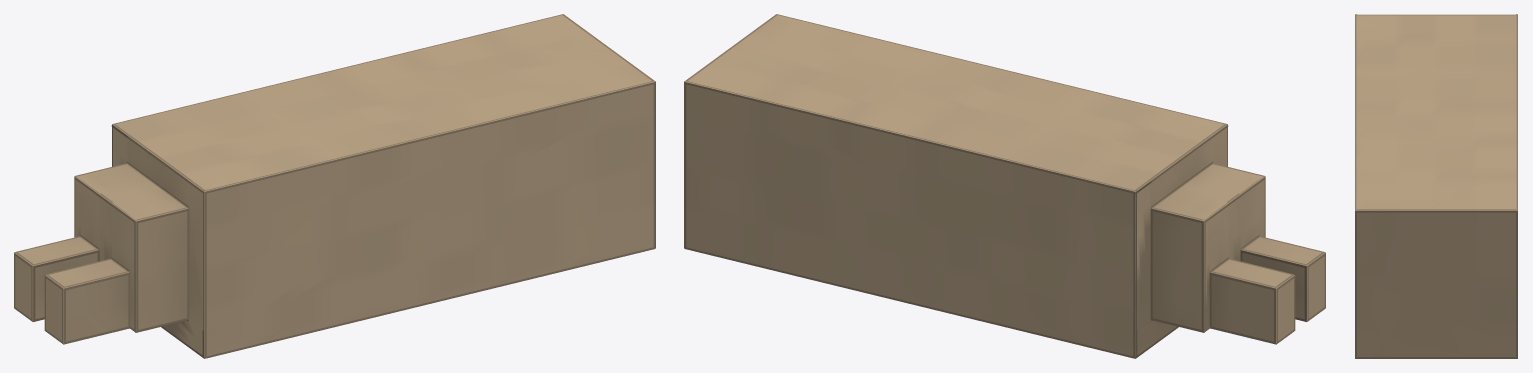
The picture shows the model from 3 angles, left to right: view 1: azimuth 30°, elevation 25°; view 2: azimuth 150°, elevation 25°; view 3: azimuth 270°, elevation 25°; orthographic projection. The views are drawn at different scales.
Visible parts, largest first — view 1: part-b; view 2: part-b; view 3: part-b.
Boxes of the visible parts, box(x1,y1,x2,y2) form: part-b: box(14, 14, 655, 358); part-b: box(684, 14, 1325, 358); part-b: box(1355, 14, 1517, 358).
Bounding box in the file's own units: 0.4308 × 0.1211 × 0.1208.
